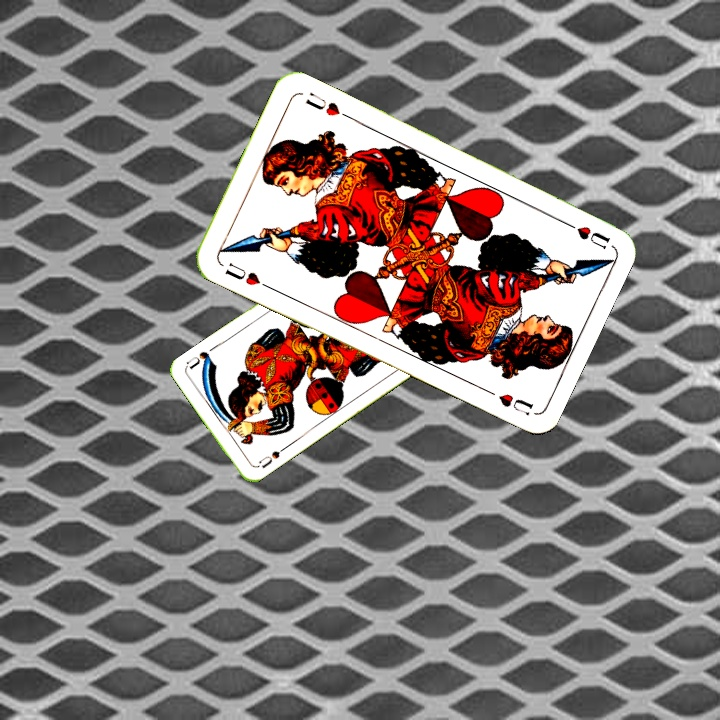HU: (558, 216, 613, 252), (220, 258, 272, 291)
SU: (252, 443, 288, 471)
